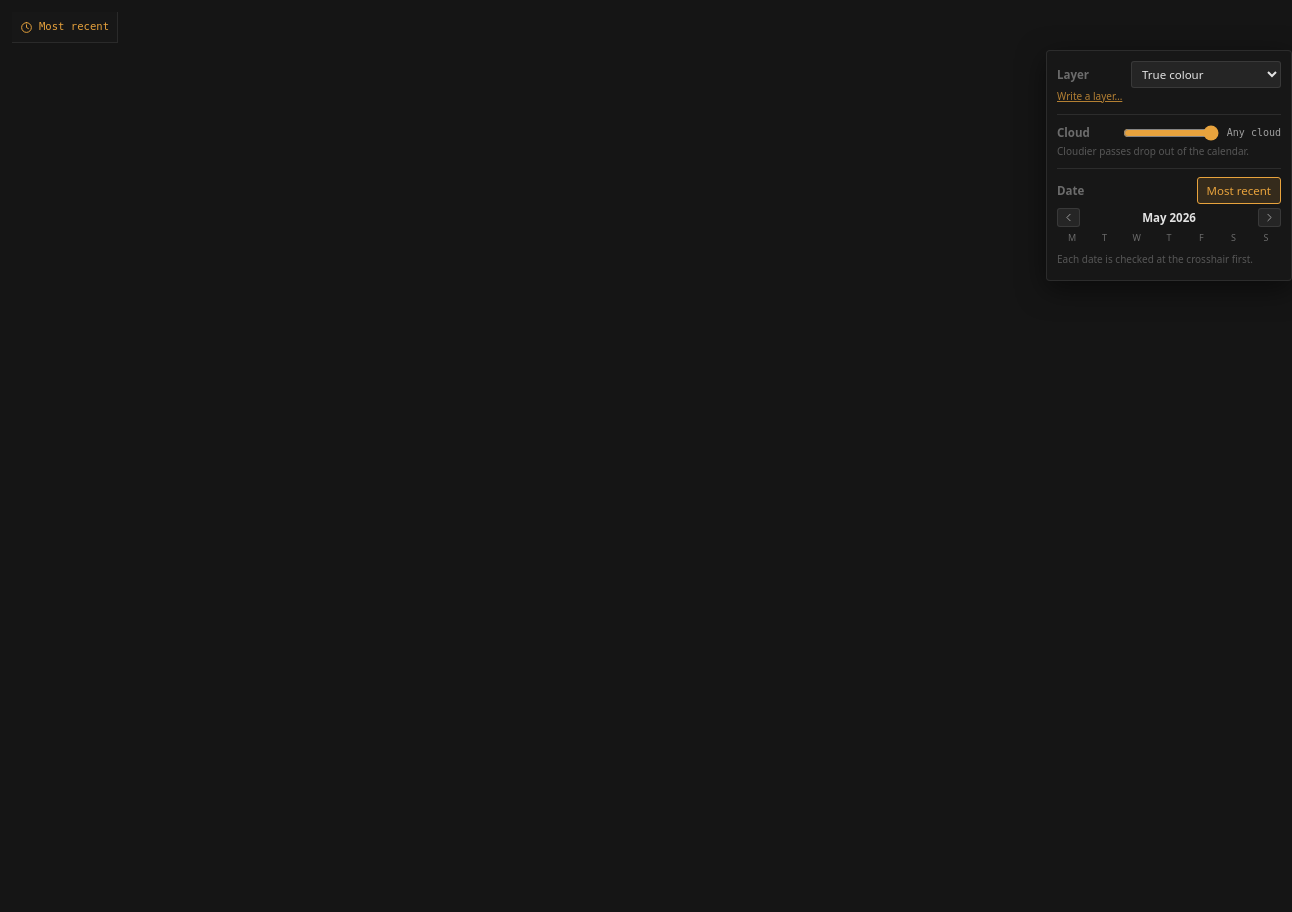
Test: draws a script on this map before anything is saved
Click the button "Write a layer…" at (1090, 97), box [1057,90,1122,104]
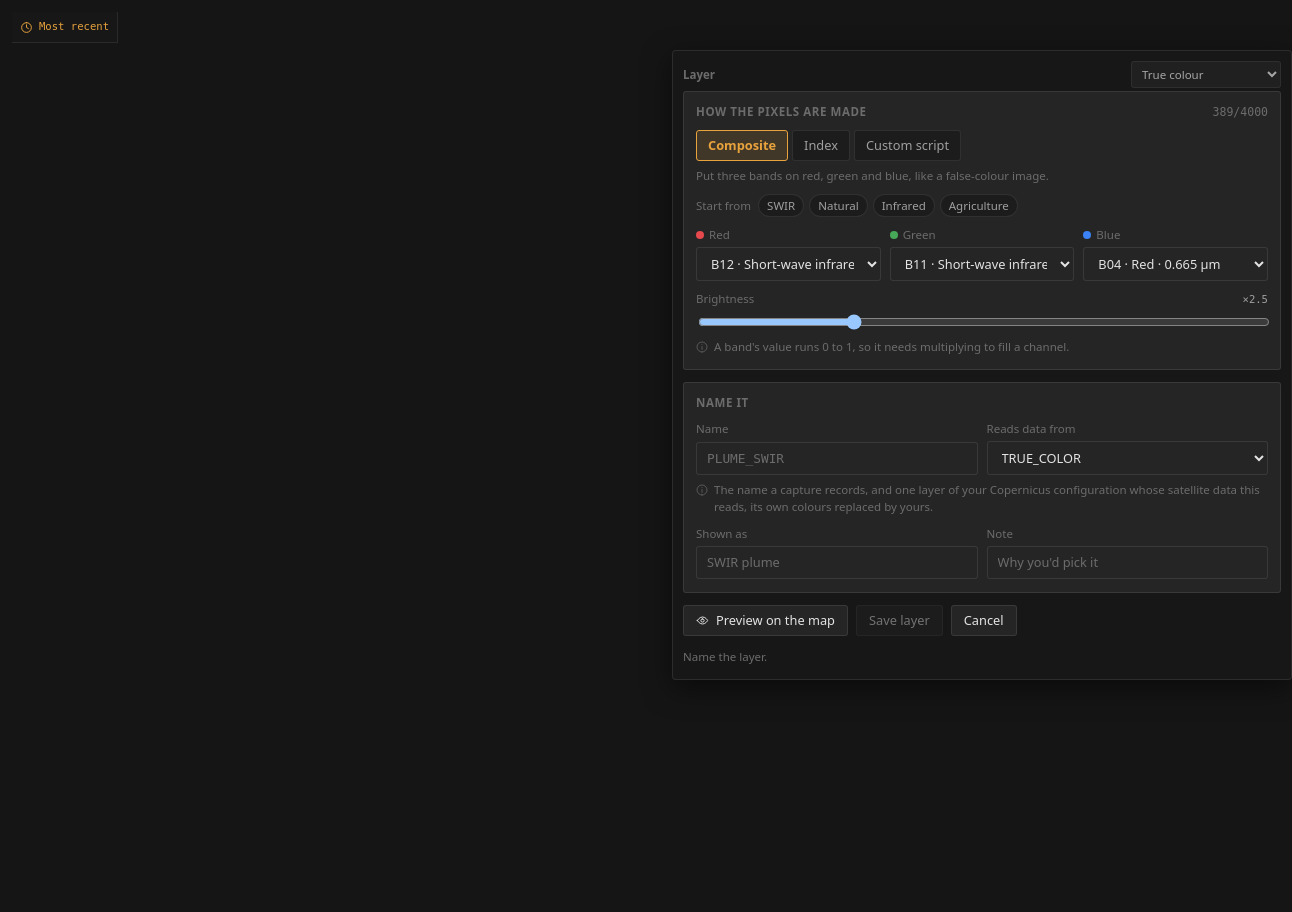
Expected: the dropdown named "Red band" is shown, [696,247,881,281]
Click the button "Preview on the map" at (766, 621), box [683,605,848,636]
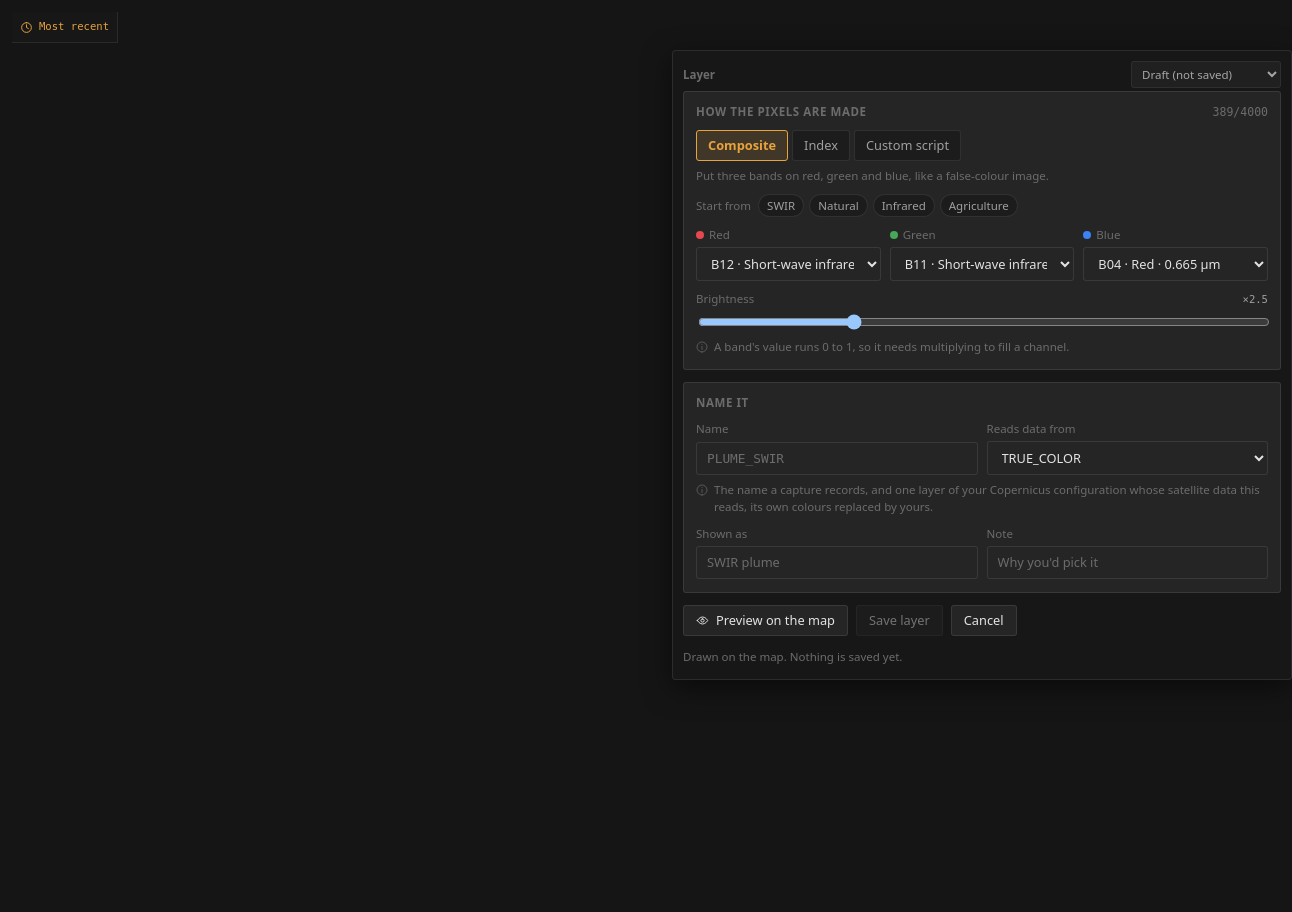
Expected: the text "Nothing is saved yet" is shown, [683,649,902,664]
